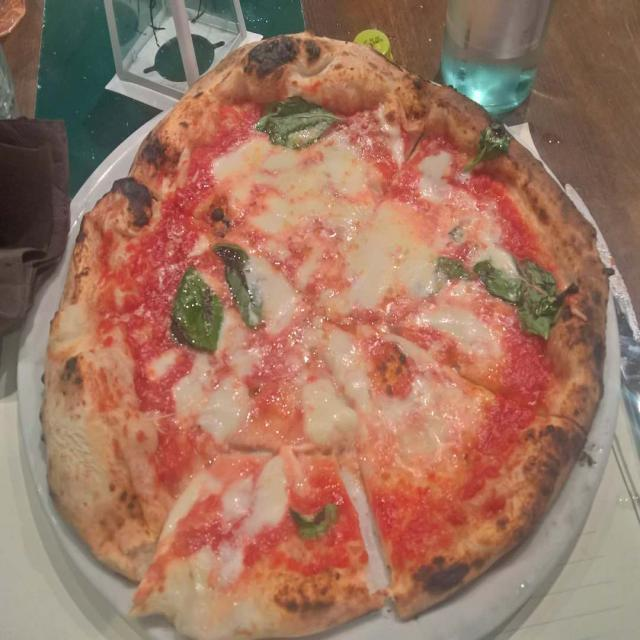basil: (514, 256, 580, 344), (252, 94, 347, 154), (169, 264, 227, 352), (214, 241, 268, 328), (471, 257, 532, 307), (463, 123, 512, 176), (288, 502, 341, 540), (437, 254, 475, 282)
pizza: (40, 34, 608, 640)
